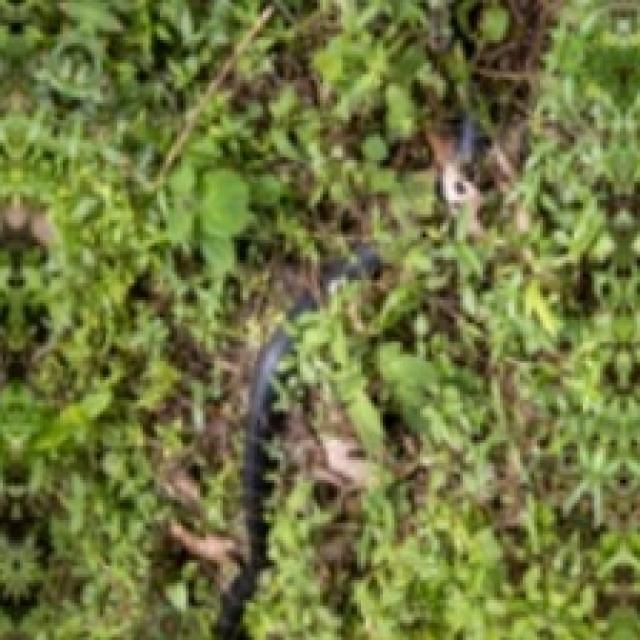king cobra: (217, 243, 394, 637)
